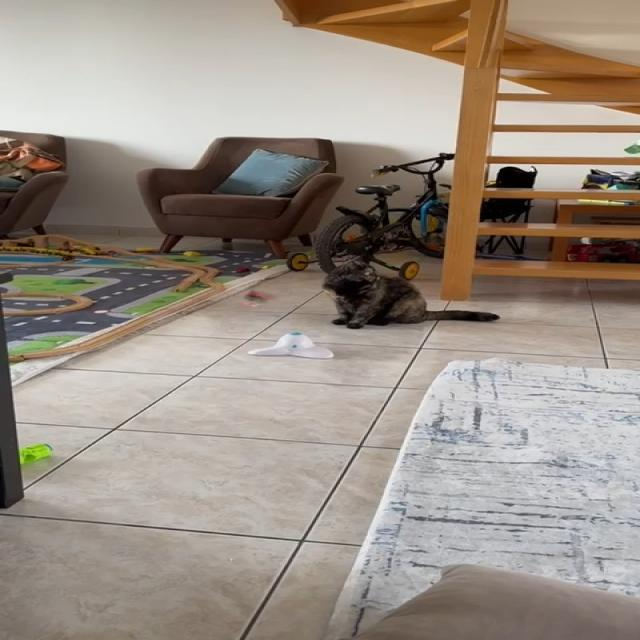authorized: (320, 244, 500, 329)
